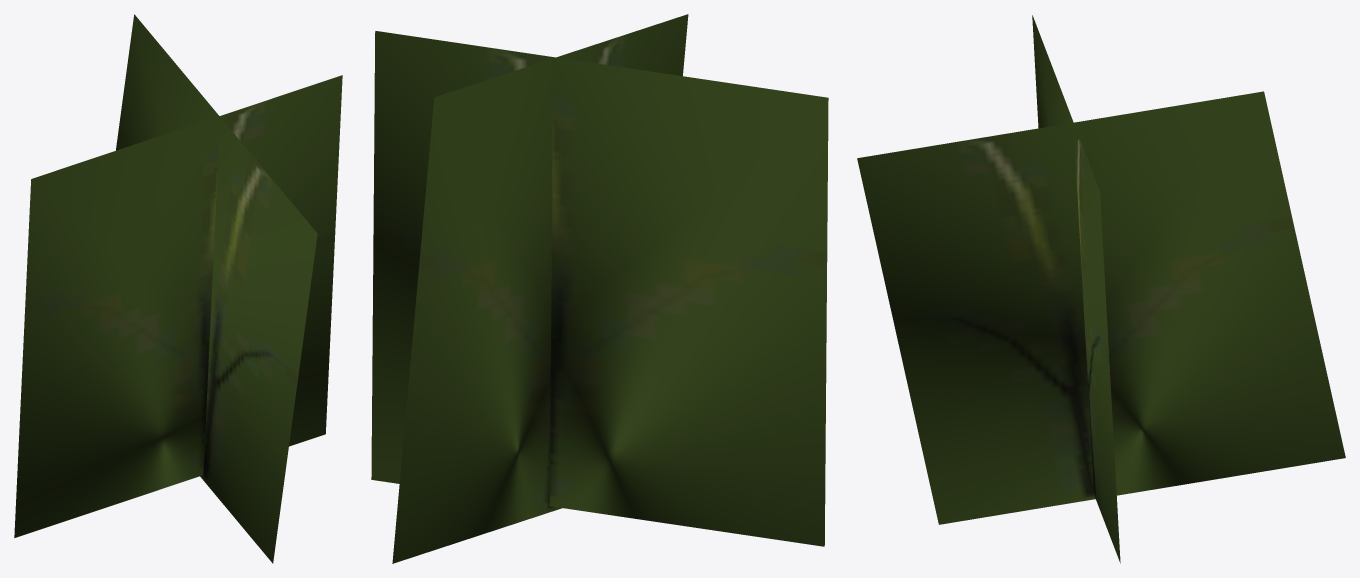
The model's file is swmp_shor_cattail_sm_l1.fbx.
3 renders of one model, left to right at view 1: azimuth 30°, elevation 25°; view 2: azimuth 150°, elevation 25°; view 3: azimuth 270°, elevation 25°, orthographic. The views are drawn at different scales.
Visible parts, largest first — view 1: mesh_node; view 2: mesh_node; view 3: mesh_node.
Boxes of the visible parts, x1,y1,x2,y2 form: mesh_node: (14, 14, 342, 563); mesh_node: (371, 14, 828, 563); mesh_node: (857, 15, 1345, 563).
Bounding box in the file's own units: 2.03 × 2.37 × 2.37.
